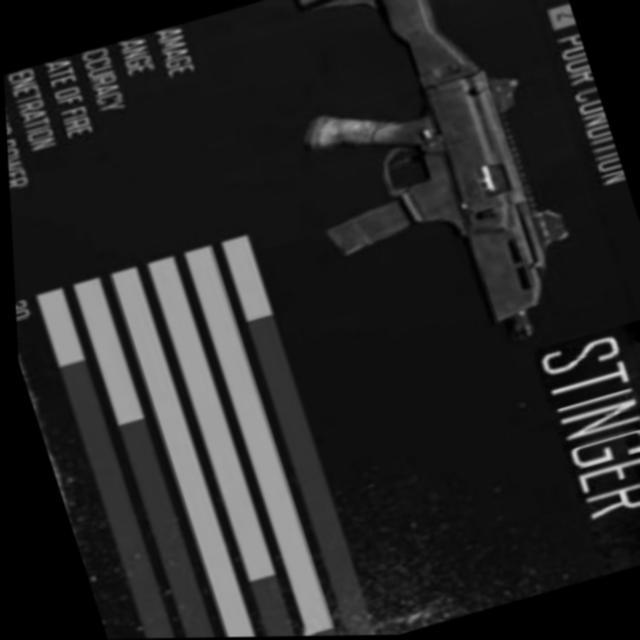weapon: (250, 0, 594, 383)
